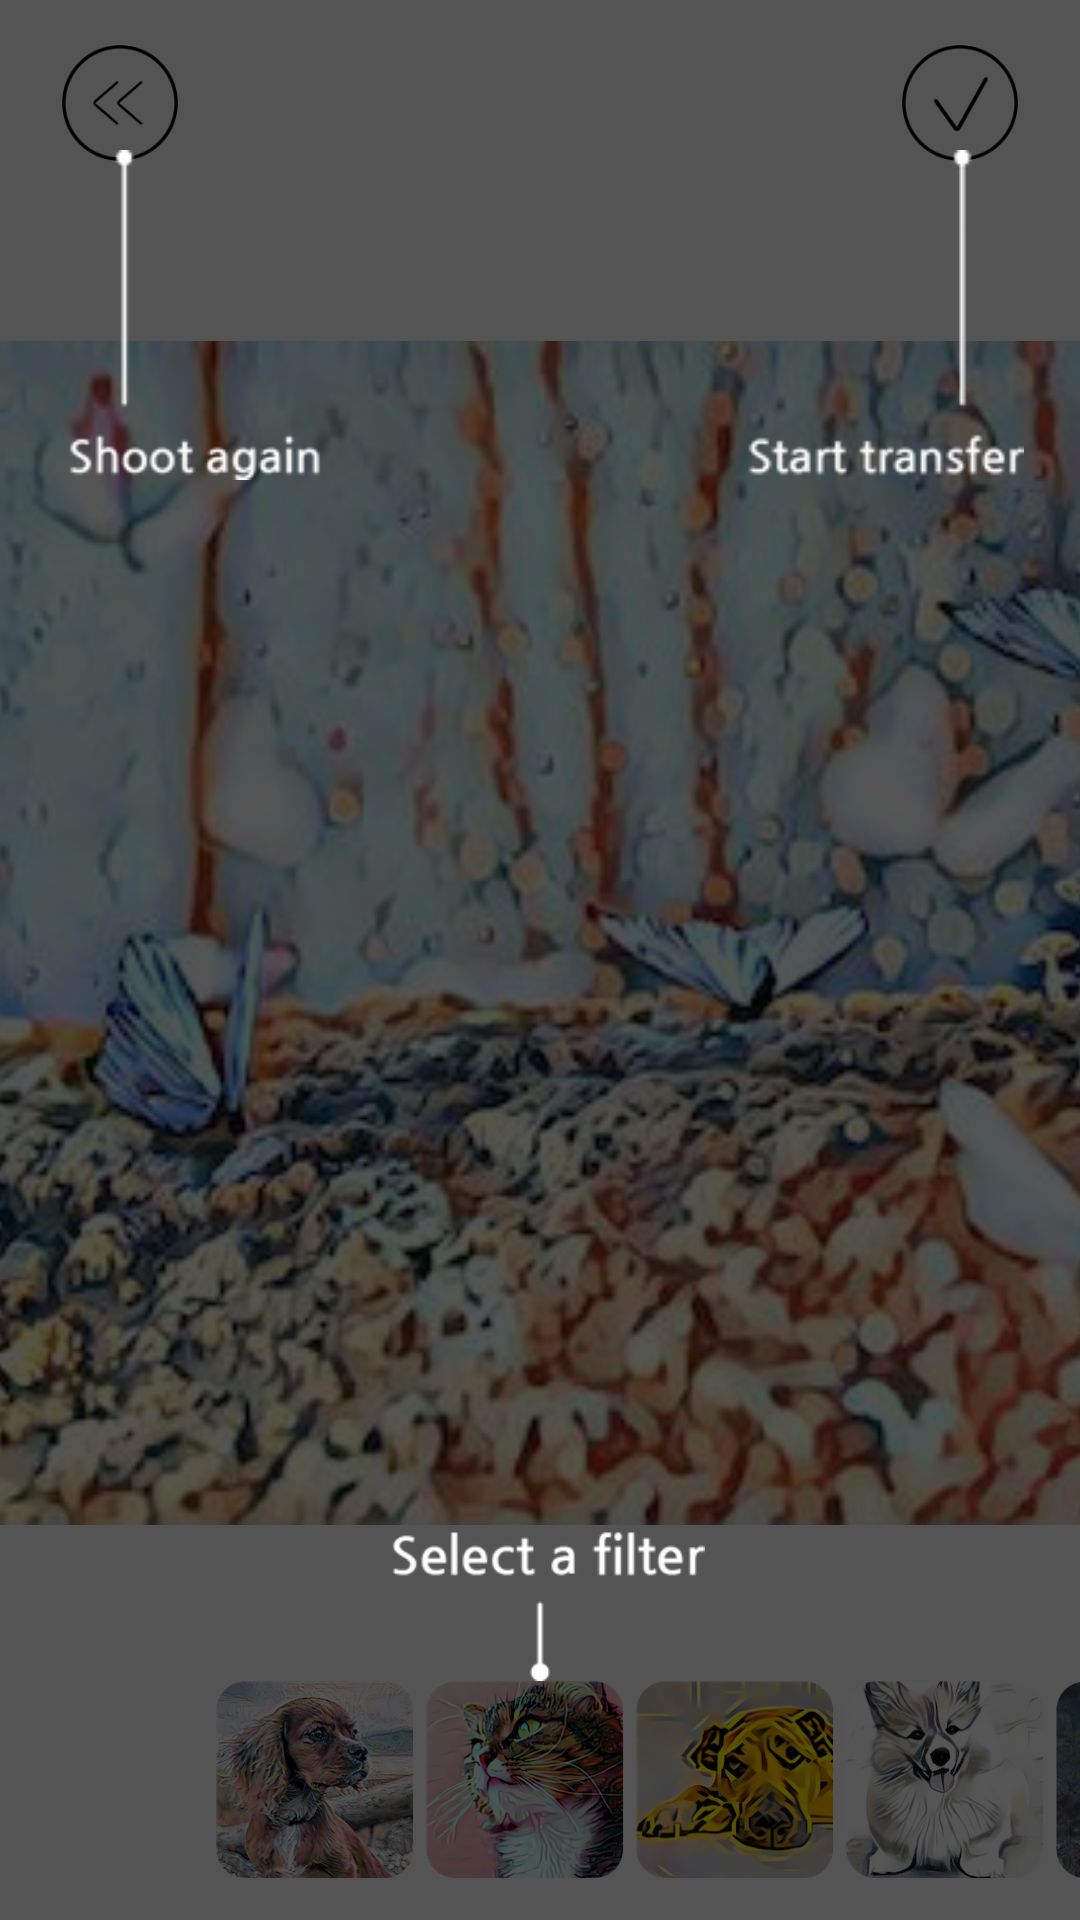

Screen size 1080x1920. Icon name, then its box in pixels as BBox(x1, y1, x2, y2):
back: BBox(62, 45, 178, 161)
check: BBox(902, 45, 1018, 161)
